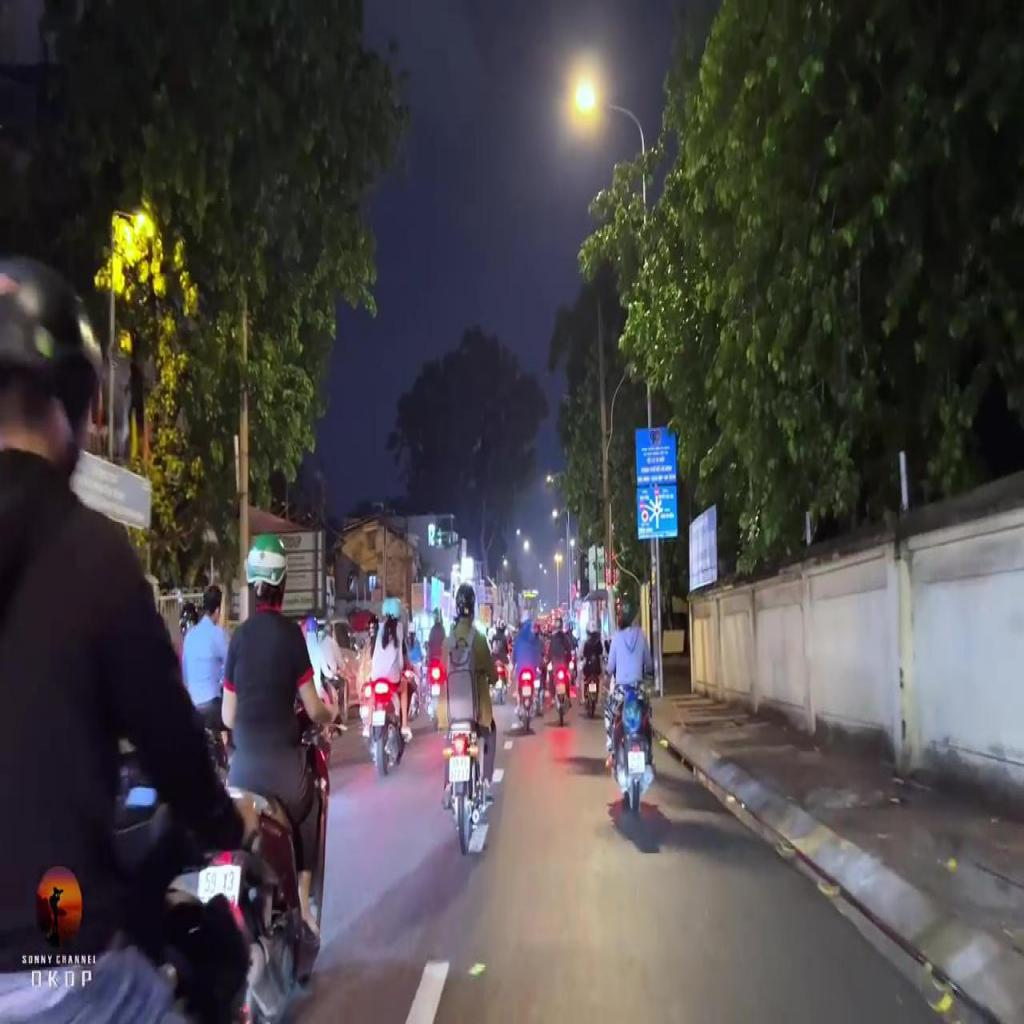khac: (637, 486, 677, 540)
